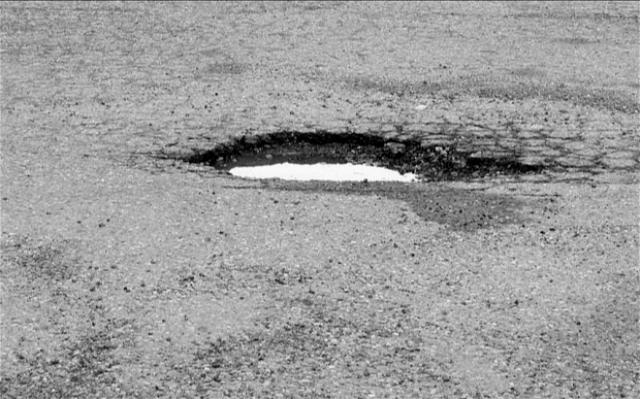Pothole: (150, 106, 556, 216)
